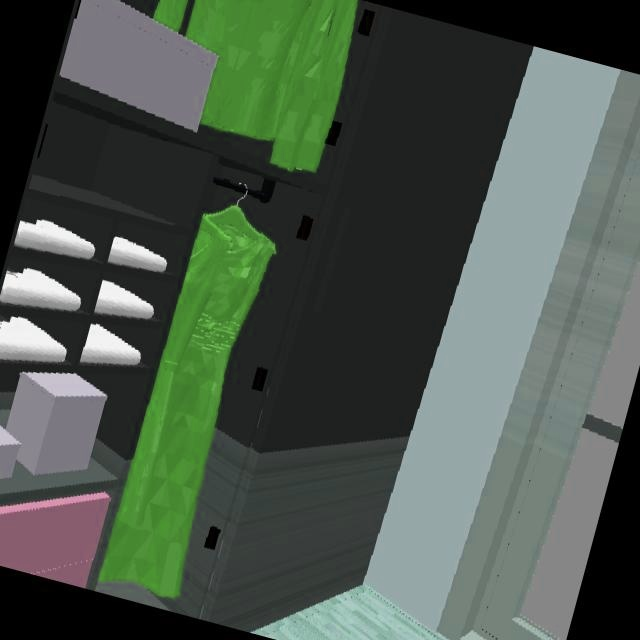wardrobe: (0, 0, 533, 633)
